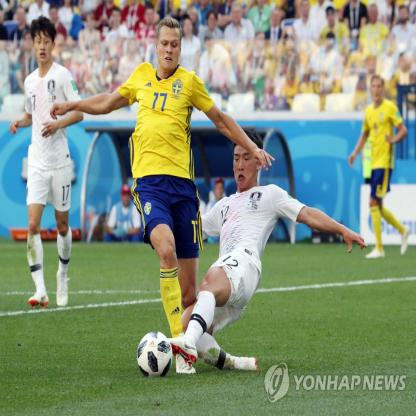Fall_Down: (161, 126, 368, 373)
